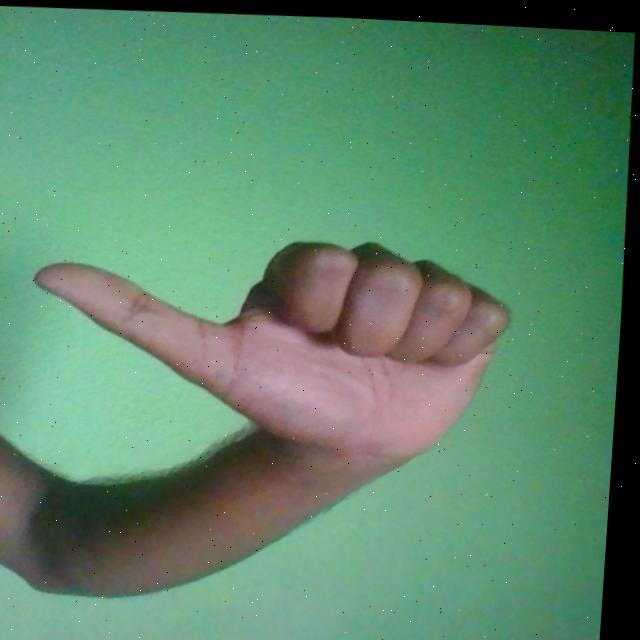Dislike: (25, 222, 519, 468)
